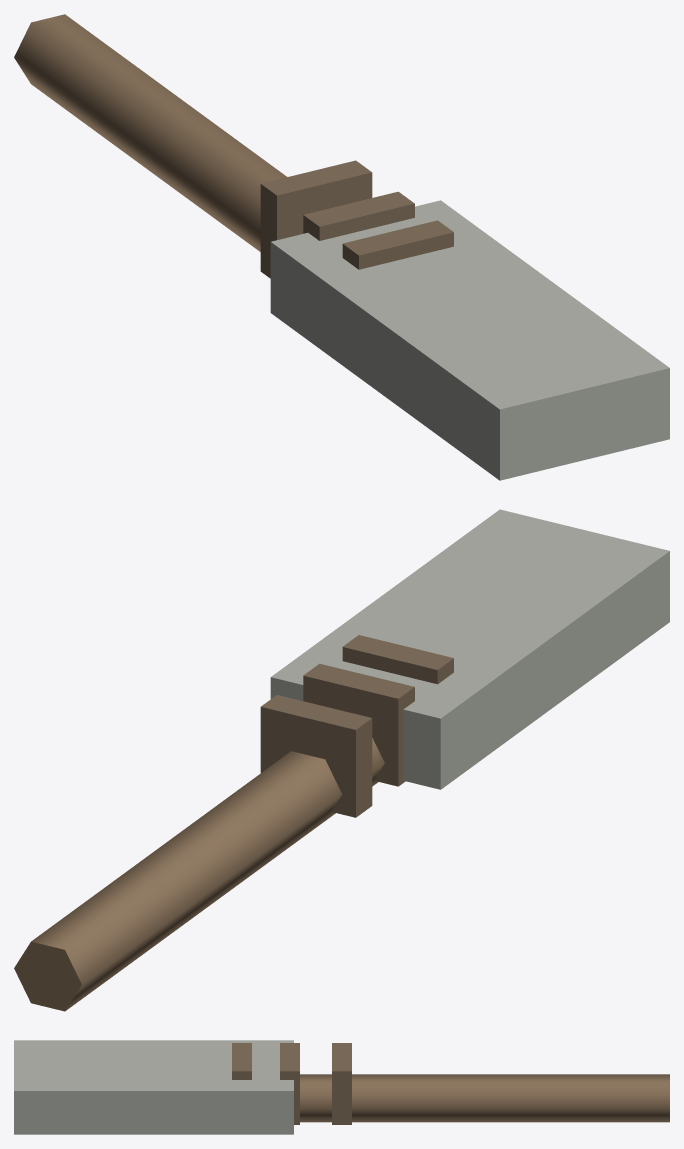
Rendered from spread-portable-forged-blade-oak-leather.fbx.
The picture shows the model from 3 angles, top to bottom: view 1: azimuth 30°, elevation 25°; view 2: azimuth 150°, elevation 25°; view 3: azimuth 270°, elevation 25°; orthographic projection. The views are drawn at different scales.
Visible parts, largest first — view 1: spread-portable-forged-blade-oak-leather__Geometry; view 2: spread-portable-forged-blade-oak-leather__Geometry; view 3: spread-portable-forged-blade-oak-leather__Geometry.
Boxes of the visible parts, x1,y1,x2,y2 form: spread-portable-forged-blade-oak-leather__Geometry: [14, 14, 669, 480]; spread-portable-forged-blade-oak-leather__Geometry: [14, 509, 669, 1011]; spread-portable-forged-blade-oak-leather__Geometry: [14, 1040, 669, 1134].
Size of the model in its own units: 0.15 by 0.083 by 0.82.
